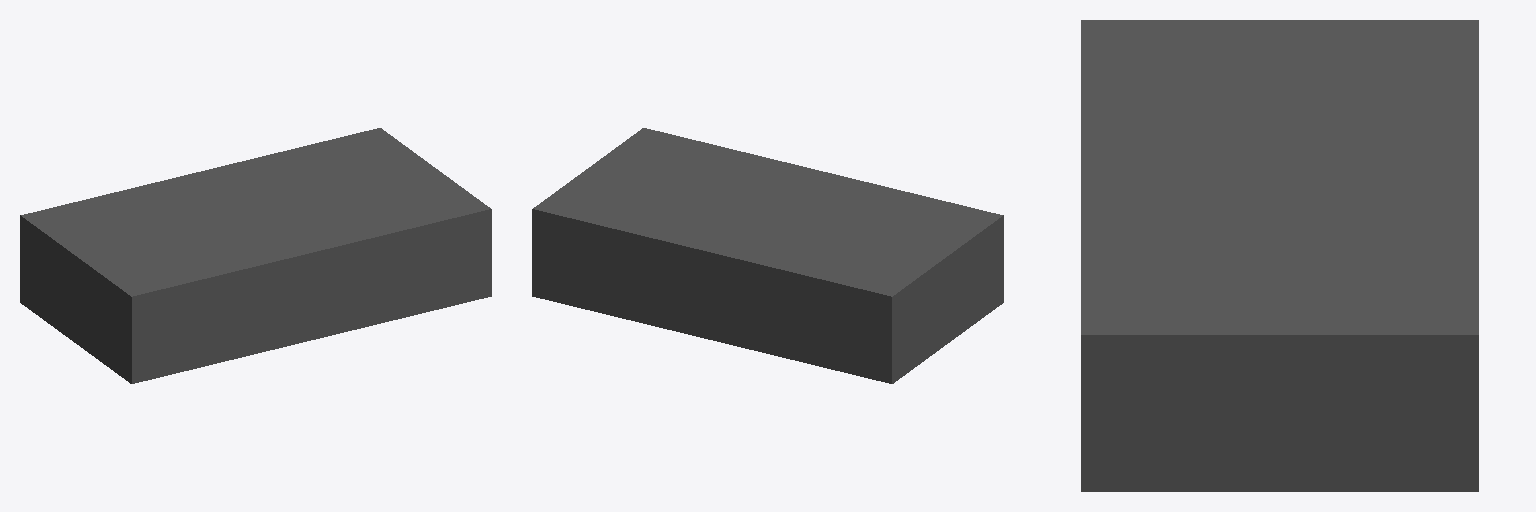
The robot description file, URDF, robot "turtlebot3_burger":
<?xml version="1.0" ?>
<robot name="turtlebot3_burger"
  xmlns:xacro="http://ros.org/wiki/xacro">
  <!-- <xacro:include filename="$(find turtlebot3_description)/urdf/common_properties.urdf"/> -->

  <!-- Init colour -->
  <material name="black">
      <color rgba="0.0 0.0 0.0 1.0"/>
  </material>

  <material name="dark">
    <color rgba="0.3 0.3 0.3 1.0"/>
  </material>

  <material name="light_black">
    <color rgba="0.4 0.4 0.4 1.0"/>
  </material>

  <material name="blue">
    <color rgba="0.0 0.0 0.8 1.0"/>
  </material>

  <material name="green">
    <color rgba="0.0 0.8 0.0 1.0"/>
  </material>

  <material name="grey">
    <color rgba="0.5 0.5 0.5 1.0"/>
  </material>

  <material name="orange">
    <color rgba="1.0 0.4235 0.0392 1.0"/>
  </material>

  <material name="brown">
    <color rgba="0.8706 0.8118 0.7647 1.0"/>
  </material>

  <material name="red">
    <color rgba="0.8 0.0 0.0 1.0"/>
  </material>

  <material name="white">
    <color rgba="1.0 1.0 1.0 1.0"/>
  </material>

  <link name="base_footprint"/>

  <joint name="base_joint" type="fixed">
    <parent link="base_footprint"/>
    <child link="base_link"/>
    <origin xyz="0.0 0.0 0.010" rpy="0 0 0"/>
  </joint>

  <link name="base_link">
    <visual>
      <origin xyz="0 0 0.08" rpy="0 0 0"/>
      <geometry>
        <box size="0.43 0.23 0.10"/>
      </geometry>
      <material name="light_black"/>
    </visual>

    <collision>
      <origin xyz="0 0 0.08" rpy="0 0 0"/>
      <geometry>
        <box size="0.43 0.23 0.10"/>
      </geometry>
    </collision>

    <inertial>
      <origin xyz="0 0 0" rpy="0 0 0"/>
      <mass value="8.2573504e-01"/>
      <inertia ixx="2.2124416e-03" ixy="-1.2294101e-05" ixz="3.4938785e-05" iyy="2.1193702e-03" iyz="-5.0120904e-06" izz="2.0064271e-03" />
    </inertial>
  </link>

  <joint name="wheel_left_joint" type="continuous">
    <parent link="base_link"/>
    <child link="wheel_left_link"/>
    <origin xyz="0.0 0.08 0.023" rpy="-1.57 0 0"/>
    <axis xyz="0 0 1"/>
  </joint>

  <link name="wheel_left_link">
    <visual>
      <origin xyz="0 0 0" rpy="1.57 0 0"/>
      <geometry>
        <mesh filename="package://turtlebot3_gazebo/models/turtlebot3_common/meshes/tire.dae" scale="0.001 0.001 0.001"/>
      </geometry>
      <material name="dark"/>
    </visual>

    <collision>
      <origin xyz="0 0 0" rpy="0 0 0"/>
      <geometry>
        <cylinder length="0.018" radius="0.033"/>
      </geometry>
    </collision>

    <inertial>
      <origin xyz="0 0 0" />
      <mass value="2.8498940e-02" />
      <inertia ixx="1.1175580e-05" ixy="-4.2369783e-11" ixz="-5.9381719e-09" iyy="1.1192413e-05" iyz="-1.4400107e-11" izz="2.0712558e-05" />
    </inertial>
  </link>

  <joint name="wheel_right_joint" type="continuous">
    <parent link="base_link"/>
    <child link="wheel_right_link"/>
    <origin xyz="0.0 -0.080 0.023" rpy="-1.57 0 0"/>
    <axis xyz="0 0 1"/>
  </joint>

  <link name="wheel_right_link">
    <visual>
      <origin xyz="0 0 0" rpy="1.57 0 0"/>
      <geometry>
        <mesh filename="package://turtlebot3_gazebo/models/turtlebot3_common/meshes/tire.dae" scale="0.001 0.001 0.001"/>
      </geometry>
      <material name="dark"/>
    </visual>

    <collision>
      <origin xyz="0 0 0" rpy="0 0 0"/>
      <geometry>
        <cylinder length="0.018" radius="0.033"/>
      </geometry>
    </collision>

    <inertial>
      <origin xyz="0 0 0" />
      <mass value="2.8498940e-02" />
      <inertia ixx="1.1175580e-05" ixy="-4.2369783e-11" ixz="-5.9381719e-09" iyy="1.1192413e-05" iyz="-1.4400107e-11" izz="2.0712558e-05" />
    </inertial>
  </link>

  <joint name="caster_back_joint" type="fixed">
    <parent link="base_link"/>
    <child link="caster_back_link"/>
    <origin xyz="-0.081 0 -0.004" rpy="-1.57 0 0"/>
  </joint>

  <link name="caster_back_link">
    <collision>
      <origin xyz="0 0.001 0" rpy="0 0 0"/>
      <geometry>
        <box size="0.030 0.009 0.020"/>
      </geometry>
    </collision>

    <inertial>
      <origin xyz="0 0 0" />
      <mass value="0.005" />
      <inertia ixx="0.001" ixy="0.0" ixz="0.0" iyy="0.001" iyz="0.0" izz="0.001" />
    </inertial>
  </link>

  <joint name="imu_joint" type="fixed">
    <parent link="base_link"/>
    <child link="imu_link"/>
    <origin xyz="-0.032 0 0.068" rpy="0 0 0"/>
  </joint>

  <link name="imu_link"/>

  <joint name="scan_joint" type="fixed">
    <parent link="base_link"/>
    <child link="base_scan"/>
    <origin xyz="-0.032 0 0.35" rpy="0 0 0"/>
  </joint>

  <link name="base_scan">
    <visual>
      <origin xyz="0 0 0.0" rpy="0 0 0"/>
      <geometry>
        <mesh filename="package://turtlebot3_gazebo/models/turtlebot3_common/meshes/lds.dae" scale="0.001 0.001 0.001"/>
      </geometry>
      <material name="dark"/>
    </visual>

    <collision>
      <origin xyz="0.015 0 -0.0065" rpy="0 0 0"/>
      <geometry>
        <cylinder length="0.0315" radius="0.055"/>
      </geometry>
    </collision>

    <inertial>
      <mass value="0.114" />
      <origin xyz="0 0 0" />
      <inertia ixx="0.001" ixy="0.0" ixz="0.0" iyy="0.001" iyz="0.0" izz="0.001" />
    </inertial>
  </link>

</robot>

--- Render facts (derived) ---
Views: 3 orthographic renders of the robot side by side, from view 1: azimuth 30°, elevation 25°; view 2: azimuth 150°, elevation 25°; view 3: azimuth 270°, elevation 25°.
Robot: turtlebot3_burger — 7 links, 6 joints (2 continuous, 4 fixed); root link base_footprint; default pose: all joints at 0.
Visible links, largest first — view 1: base_link; view 2: base_link; view 3: base_link.
Boxes of the visible links, x1=… form: base_link: x1=20, y1=128, x2=491, y2=383; base_link: x1=532, y1=128, x2=1003, y2=383; base_link: x1=1081, y1=20, x2=1478, y2=491.
Size in the robot's own frame: 0.43 by 0.23 by 0.1 metres.
Meshes: 2 distinct files referenced, 0 mesh visuals loaded (none loaded); not drawn: 3 (reference not matched to a file when rendering).